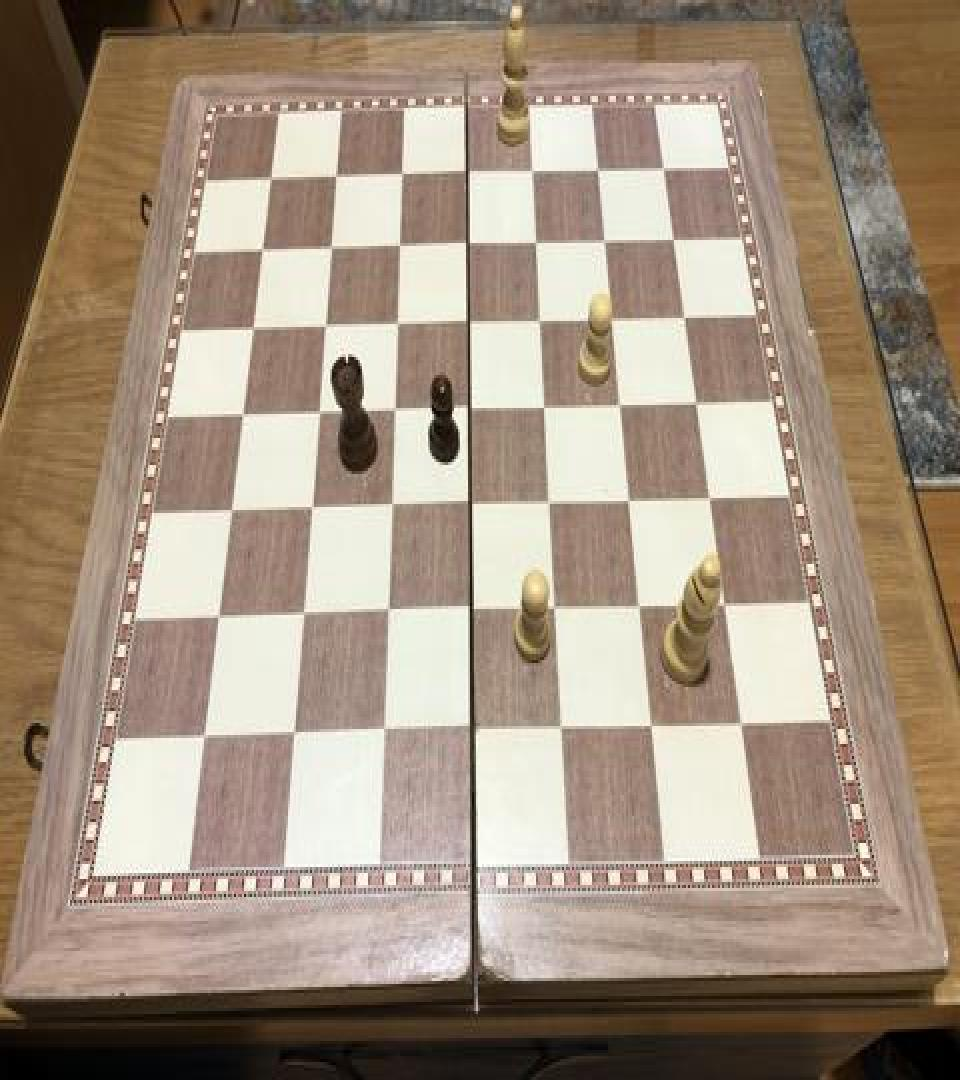xcorner: (541, 595, 565, 632), (206, 601, 230, 638), (726, 712, 750, 749), (636, 712, 660, 749), (280, 718, 304, 755), (651, 153, 675, 189), (585, 156, 609, 192), (519, 158, 543, 194), (453, 159, 477, 195), (387, 160, 411, 196), (321, 162, 345, 198), (256, 165, 280, 201), (661, 225, 685, 261), (592, 226, 616, 262), (522, 230, 546, 266), (453, 231, 477, 267), (384, 232, 408, 268), (316, 234, 340, 270), (248, 237, 272, 273), (672, 304, 696, 340), (599, 306, 623, 342), (526, 308, 550, 344), (454, 309, 478, 345), (382, 312, 406, 348), (310, 314, 334, 350), (239, 315, 263, 351), (683, 392, 707, 428), (607, 393, 631, 429), (531, 394, 555, 430), (455, 396, 479, 432), (379, 398, 403, 434), (304, 399, 328, 435), (229, 400, 253, 436), (696, 486, 720, 522), (616, 489, 640, 525), (535, 490, 559, 526), (456, 492, 480, 528), (376, 494, 400, 530), (297, 495, 321, 531), (218, 496, 242, 532), (710, 592, 734, 628), (625, 594, 649, 630), (457, 597, 481, 633), (373, 598, 397, 634), (289, 600, 313, 636), (547, 714, 571, 750), (458, 716, 482, 752), (369, 717, 393, 753), (192, 720, 216, 756)
